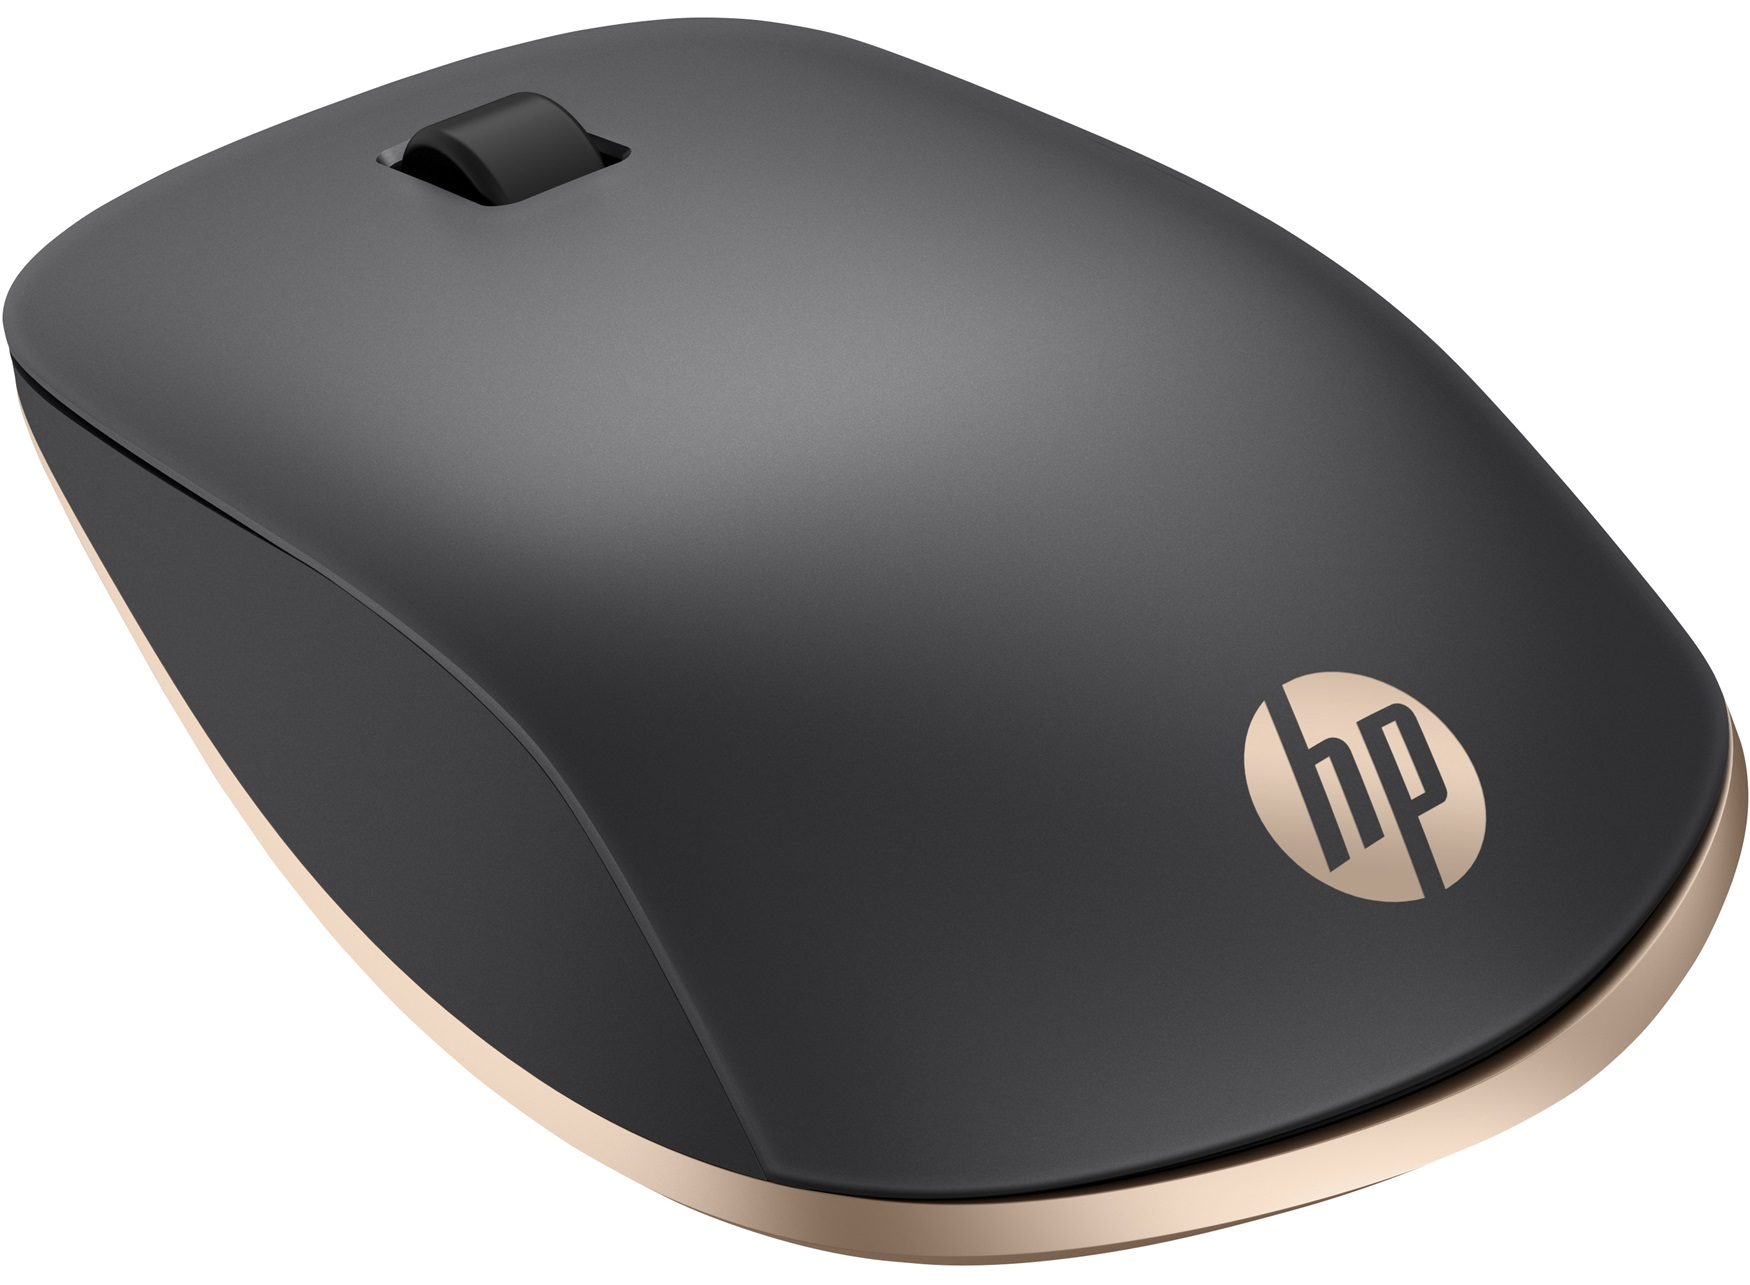Mouse: (1, 10, 1749, 1275)
